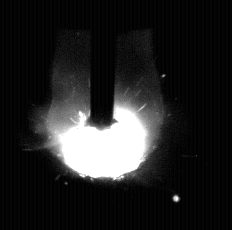arame: (91, 0, 115, 130)
poca: (47, 0, 163, 230)
